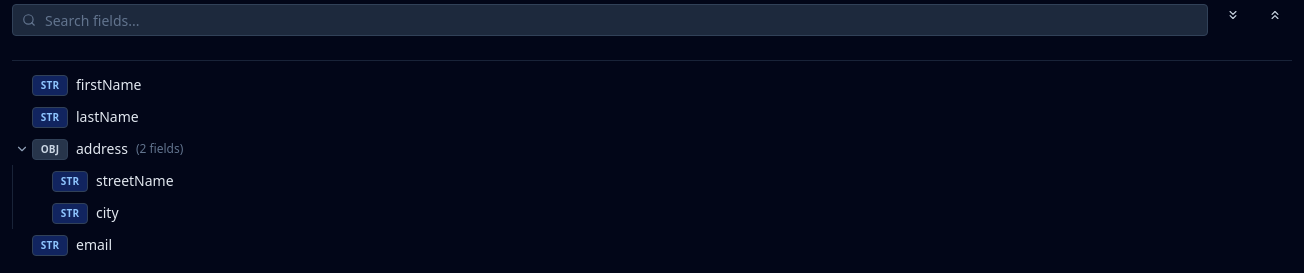
Test case: SchemaTreeView › Search (AE-03) › shows "No matching fields" when no results
In the field named "Search schema fields": (610, 20) [12, 4, 1208, 36], type "zzzzzzz"
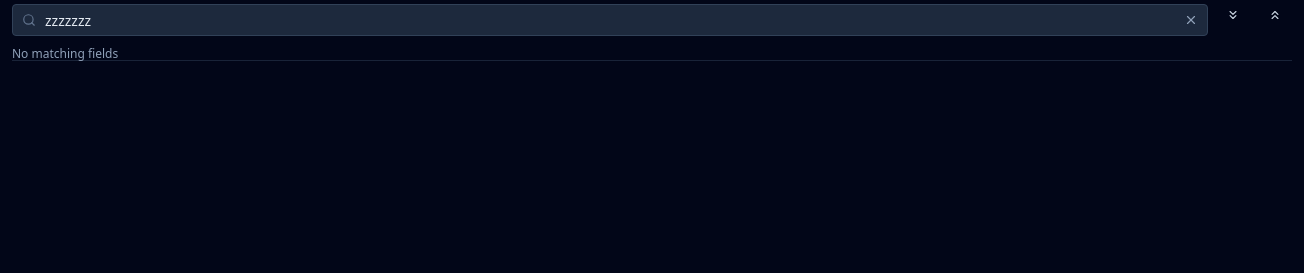
Now the text "No matching fields" is shown, box [12, 45, 118, 62]
